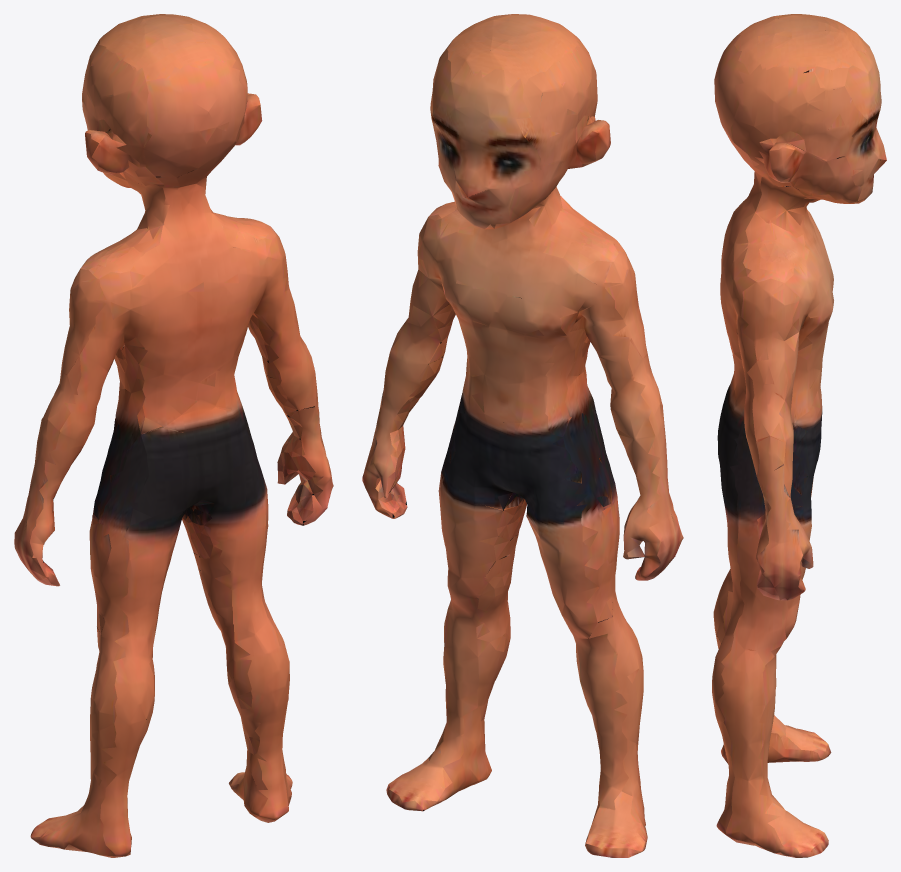
Rendered from male-base.glb.
The picture shows the model from 3 angles, left to right: view 1: azimuth 30°, elevation 25°; view 2: azimuth 150°, elevation 25°; view 3: azimuth 270°, elevation 25°; orthographic projection. The views are drawn at different scales.
Parts seen in each view (by area): view 1: world; view 2: world; view 3: world.
Part boxes in pixels (box(x1,y1,x2,y2)): world: box(14, 14, 333, 857); world: box(362, 14, 683, 857); world: box(712, 14, 886, 857).
Size of the model in its own units: 0.3851 by 0.9589 by 0.1947.
Materials: 1 (1 with a texture image).
